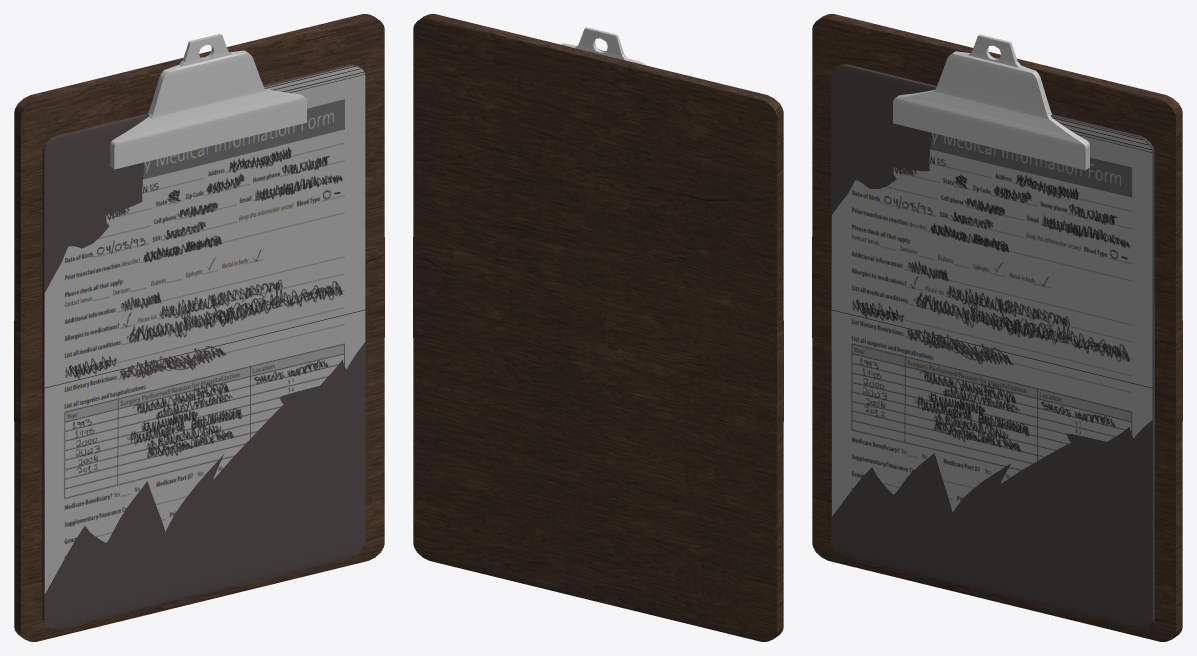
Rendered from Prancheta.fbx.
The picture shows the model from 3 angles, left to right: view 1: azimuth 30°, elevation 25°; view 2: azimuth 150°, elevation 25°; view 3: azimuth 330°, elevation 25°; orthographic projection.
Visible parts, largest first — view 1: Cube.001; view 2: Cube.001; view 3: Cube.001.
Boxes of the visible parts, x1,y1,x2,y2 form: Cube.001: [14, 14, 384, 641]; Cube.001: [413, 14, 783, 641]; Cube.001: [812, 14, 1182, 641].
Bounding box in the file's own units: 302 × 447 × 18.74.
